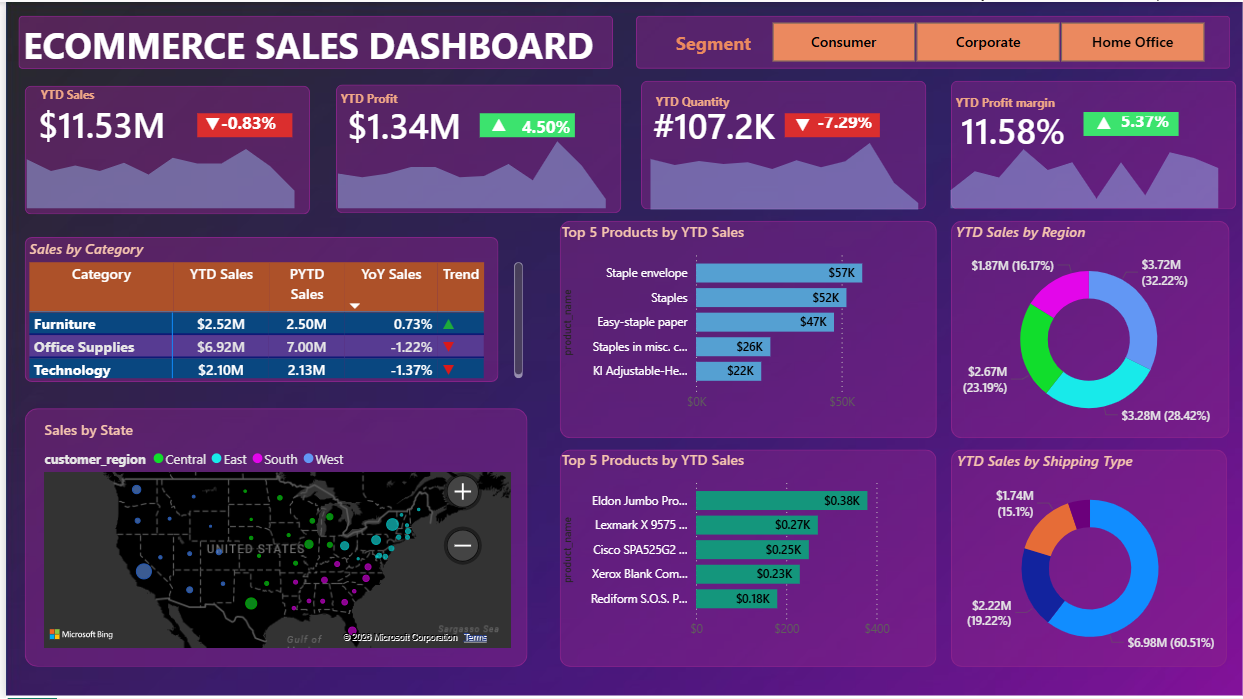

What the dashboard file says about the page in this screenshot:
{"tool":"powerbi","page":{"name":"Page 1","canvas":[1280,720],"ordinal":0},"visuals":[{"type":"shape","box":[12.3,13.7,615,55],"z":0},{"type":"textbox","box":[12.3,13.7,614.8,67.2],"z":1000},{"type":"shape","box":[19.2,86.4,295,133.1],"z":2000},{"type":"card","fields":{"Values":["ecommerce_data.YTD Sales"]},"box":[6.9,87.8,185.2,78.2],"z":3000},{"type":"shape","box":[197.6,115.3,98.8,24.7],"z":4000},{"type":"areaChart","fields":{"Category":["Calendar.Month"],"Y":["Sum(ecommerce_data.sales_per_order)"]},"box":[6.9,127.6,307.4,90.6],"z":5000},{"type":"card","fields":{"Values":["ecommerce_data.YoY Sales"]},"box":[214.1,105.7,72.7,42.5],"z":6000},{"type":"card","fields":{"Values":["ecommerce_data.Sales Icon"]},"box":[185.2,108.4,57.6,38.4],"z":7000},{"type":"textbox","box":[31,81.5,95.7,33.6],"z":8000},{"type":"shape","box":[341.7,85.1,295,133.1],"z":9000},{"type":"shape","box":[489.9,115.3,98.8,24.7],"z":10000},{"type":"card","fields":{"Values":["ecommerce_data.YoY Profit"]},"box":[522.8,109.8,72.7,42.5],"z":11000},{"type":"card","fields":{"Values":["ecommerce_data.Profit Icon"]},"box":[481.6,109.8,57.6,38.4],"z":12000},{"type":"textbox","box":[341.7,85.1,90.6,30.2],"z":13000},{"type":"areaChart","fields":{"Category":["Calendar.Month"],"Y":["Sum(ecommerce_data.profit_per_order)"]},"box":[328,127.6,307.4,90.6],"z":14000},{"type":"card","fields":{"Values":["ecommerce_data.YTD Profit"]},"box":[319.7,89.2,185.2,78.2],"z":15000},{"type":"shape","box":[657.3,81,295,133.1],"z":16000},{"type":"shape","box":[805.5,115.3,98.8,24.7],"z":17000},{"type":"card","fields":{"Values":["ecommerce_data.YoY Qty"]},"box":[831.6,109.8,72.7,23.3],"z":18000},{"type":"card","fields":{"Values":["ecommerce_data.Qty Icon"]},"box":[795.9,109.8,57.6,38.4],"z":19000},{"type":"textbox","box":[666.9,87.8,90.6,30.2],"z":20000},{"type":"areaChart","fields":{"Category":["Calendar.Month"],"Y":["Sum(ecommerce_data.order_quantity)"]},"box":[651.8,129,307.4,90.6],"z":21000},{"type":"card","fields":{"Values":["ecommerce_data.YTD Concatednated Qty"]},"box":[639.5,89.2,185.2,78.2],"z":22000},{"type":"shape","box":[977,81,295,133.1],"z":23000},{"type":"shape","box":[1115.2,114.3,98.8,24.7],"z":24000},{"type":"card","fields":{"Values":["ecommerce_data.YoY Profit Margin"]},"box":[1141.7,108.4,72.7,23.3],"z":25000},{"type":"card","fields":{"Values":["ecommerce_data.Profit Margin Icon"]},"box":[1107.4,107,57.6,38.4],"z":26000},{"type":"textbox","box":[977,89.2,137.2,27.4],"z":27000},{"type":"areaChart","fields":{"Category":["Calendar.Month"],"Y":["ecommerce_data.Profit Margin"]},"box":[961.5,128,307.4,90.6],"z":28000},{"type":"card","fields":{"Values":["ecommerce_data.YTD Profit Margin"]},"box":[949.6,94.7,185.2,78.2],"z":29000},{"type":"shape","box":[19.2,242.9,490,150],"z":30000},{"type":"pivotTable","title":"Sales by Category","fields":{"Rows":["ecommerce_data.category_name"],"Values":["ecommerce_data.YTD Sales","ecommerce_data.PYTD Sales","ecommerce_data.YoY Sales","ecommerce_data.Trend"]},"box":[19.2,244.3,520.1,149.6],"z":31000},{"type":"shape","box":[19.2,419.9,520.1,267.6],"z":32000},{"type":"map","title":" Sales by State","fields":{"Y":["us_state_long_lat_codes.latitude"],"X":["us_state_long_lat_codes.longitude"],"Size":["ecommerce_data.YTD Sales"],"Series":["ecommerce_data.customer_region"]},"box":[34.3,432.2,492.6,241.5],"z":33000},{"type":"shape","box":[572.2,226.4,390,225],"z":34000},{"type":"shape","box":[572.2,462.4,389.7,225],"z":35000},{"type":"barChart","title":"Top 5 Products by YTD Sales","fields":{"Category":["ecommerce_data.product_name"],"Y":["ecommerce_data.YTD Sales"]},"box":[570.6,227.5,377.8,204.3],"z":36000},{"type":"barChart","title":"Top 5 Products by YTD Sales","fields":{"Category":["ecommerce_data.product_name"],"Y":["ecommerce_data.YTD Sales"]},"box":[570.6,462.7,377.8,204.3],"z":37000},{"type":"shape","box":[977,226.4,288.2,225],"z":38000},{"type":"shape","box":[977,462.4,285.4,225],"z":39000},{"type":"donutChart","title":"YTD Sales by Region","fields":{"Category":["ecommerce_data.customer_region"],"Y":["ecommerce_data.YTD Sales"]},"box":[977,227.8,285.4,223.7],"z":40000},{"type":"donutChart","title":"YTD Sales by Shipping Type","fields":{"Y":["ecommerce_data.YTD Sales"],"Category":["ecommerce_data.shipping_type"]},"box":[978.4,463.8,285.4,223.7],"z":41000},{"type":"shape","box":[651.8,13.7,614.8,54.9],"z":42000},{"type":"slicer","fields":{"Values":["ecommerce_data.customer_segment"]},"box":[766.8,14.2,496.6,54.3],"z":43000},{"type":"textbox","box":[687.9,24.6,107.3,44],"z":44000}]}

Visuals, with their boxes in screenshot pixels (x1, y1, x2, y2), scaled from the page's 1280x720 canvas onto the 1243x699 screenshot:
shape: box(12, 13, 609, 67)
textbox: box(12, 13, 609, 79)
shape: box(19, 84, 305, 213)
card - ecommerce_data.YTD Sales: box(7, 85, 187, 161)
shape: box(192, 112, 288, 136)
areaChart - Calendar.Month x Sum(ecommerce_data.sales_per_order): box(7, 124, 305, 212)
card - ecommerce_data.YoY Sales: box(208, 103, 279, 144)
card - ecommerce_data.Sales Icon: box(180, 105, 236, 143)
textbox: box(30, 79, 123, 112)
shape: box(332, 83, 618, 212)
shape: box(476, 112, 572, 136)
card - ecommerce_data.YoY Profit: box(508, 107, 578, 148)
card - ecommerce_data.Profit Icon: box(468, 107, 524, 144)
textbox: box(332, 83, 420, 112)
areaChart - Calendar.Month x Sum(ecommerce_data.profit_per_order): box(319, 124, 617, 212)
card - ecommerce_data.YTD Profit: box(310, 87, 490, 163)
shape: box(638, 79, 925, 208)
shape: box(782, 112, 878, 136)
card - ecommerce_data.YoY Qty: box(808, 107, 878, 129)
card - ecommerce_data.Qty Icon: box(773, 107, 829, 144)
textbox: box(648, 85, 736, 115)
areaChart - Calendar.Month x Sum(ecommerce_data.order_quantity): box(633, 125, 931, 213)
card - ecommerce_data.YTD Concatednated Qty: box(621, 87, 801, 163)
shape: box(949, 79, 1235, 208)
shape: box(1083, 111, 1179, 135)
card - ecommerce_data.YoY Profit Margin: box(1109, 105, 1179, 128)
card - ecommerce_data.Profit Margin Icon: box(1075, 104, 1131, 141)
textbox: box(949, 87, 1082, 113)
areaChart - Calendar.Month x ecommerce_data.Profit Margin: box(934, 124, 1232, 212)
card - ecommerce_data.YTD Profit Margin: box(922, 92, 1102, 168)
shape: box(19, 236, 494, 381)
"Sales by Category" pivotTable: box(19, 237, 524, 382)
shape: box(19, 408, 524, 667)
" Sales by State" map: box(33, 420, 512, 654)
shape: box(556, 220, 934, 438)
shape: box(556, 449, 934, 667)
"Top 5 Products by YTD Sales" barChart: box(554, 221, 921, 419)
"Top 5 Products by YTD Sales" barChart: box(554, 449, 921, 648)
shape: box(949, 220, 1229, 438)
shape: box(949, 449, 1226, 667)
"YTD Sales by Region" donutChart: box(949, 221, 1226, 438)
"YTD Sales by Shipping Type" donutChart: box(950, 450, 1227, 667)
shape: box(633, 13, 1230, 67)
slicer - ecommerce_data.customer_segment: box(745, 14, 1227, 67)
textbox: box(668, 24, 772, 67)
